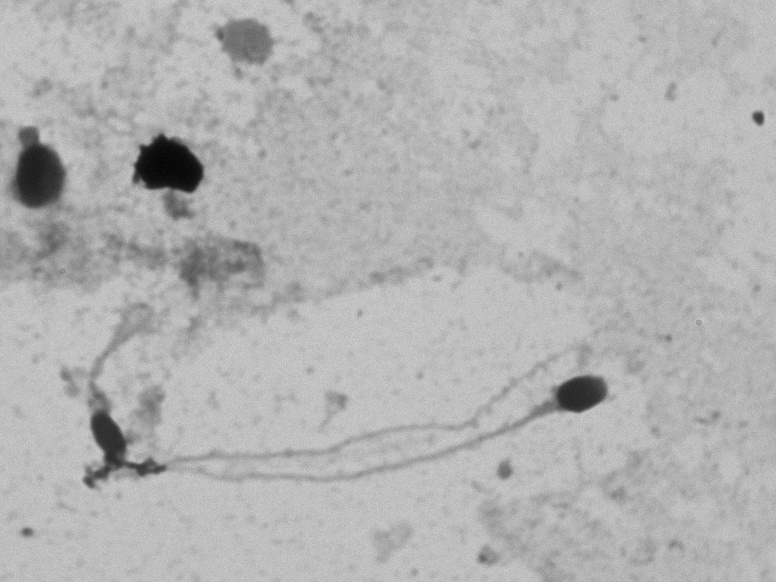Abnormal: (45, 291, 162, 467)
Normal: (117, 361, 627, 501)
